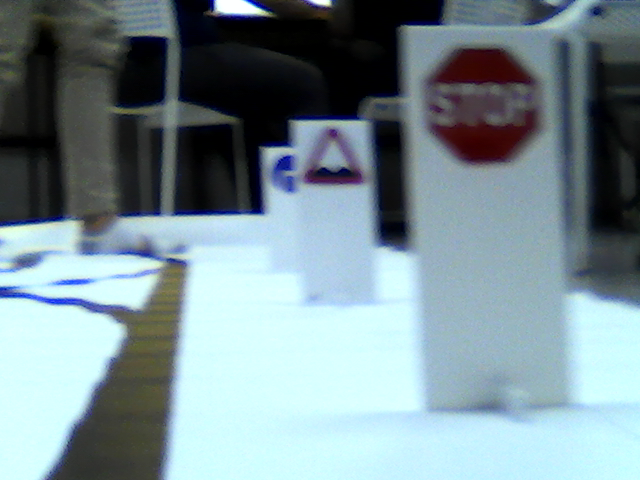Nerov: (298, 125, 364, 184)
Stop: (417, 45, 539, 168)
